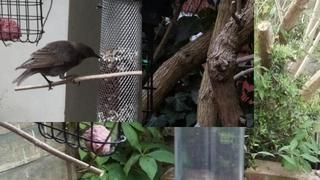starling: (12, 40, 102, 91)
